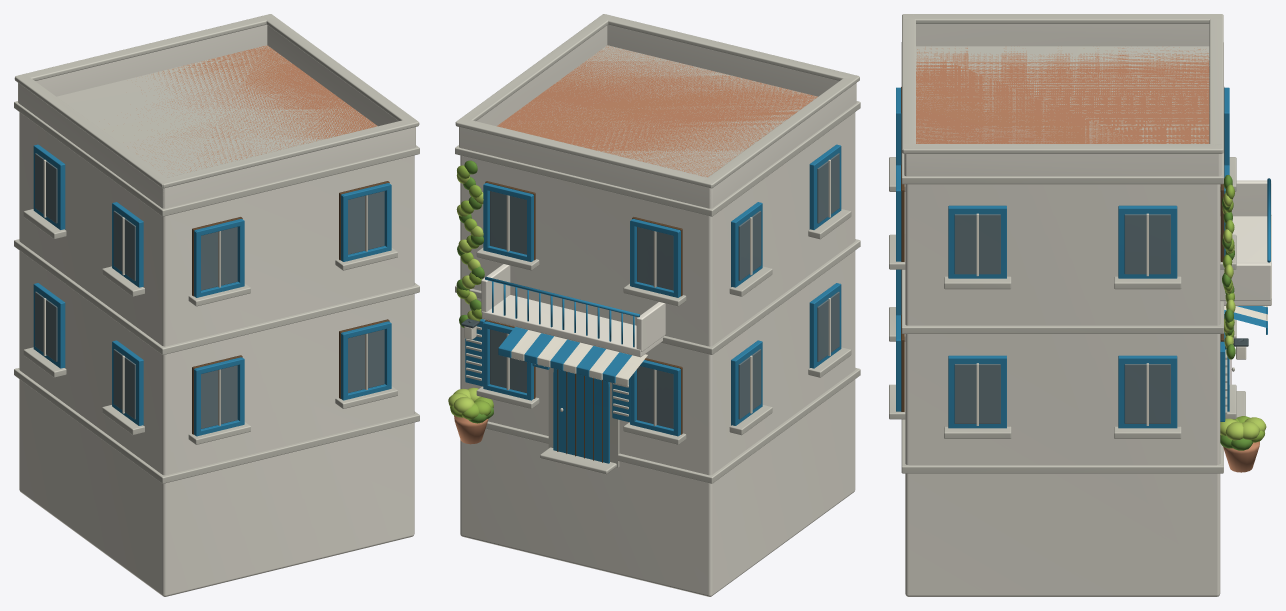
File: town_house_2_0.glb
The picture shows the model from 3 angles, left to right: view 1: azimuth 30°, elevation 25°; view 2: azimuth 150°, elevation 25°; view 3: azimuth 270°, elevation 25°; orthographic projection. The views are drawn at different scales.
Visible parts, largest first — view 1: TownHouse2_0_Geometry; view 2: TownHouse2_0_Geometry; view 3: TownHouse2_0_Geometry.
Part boxes in pixels (left/top/right/bottom): TownHouse2_0_Geometry: left=14, top=14, right=419, bottom=596; TownHouse2_0_Geometry: left=448, top=14, right=860, bottom=596; TownHouse2_0_Geometry: left=889, top=14, right=1271, bottom=596.
Size of the model in its own units: 6.62 by 9.46 by 7.29.
